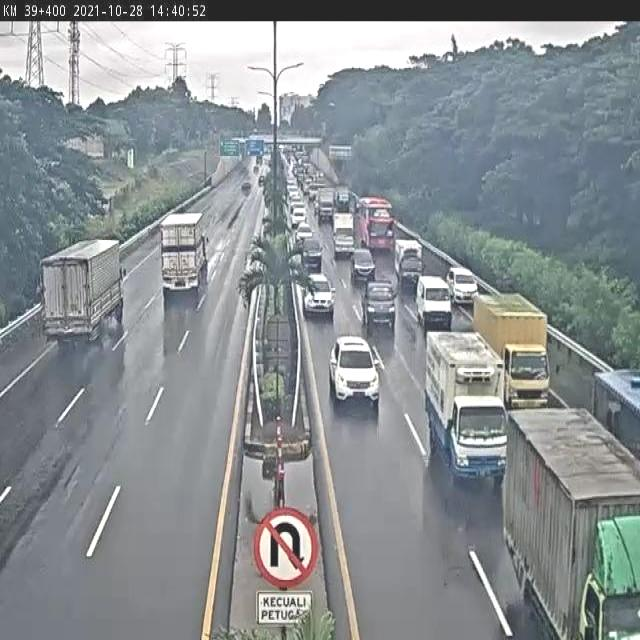Car: (328, 338, 382, 418), (361, 273, 396, 332), (447, 258, 480, 309), (303, 274, 332, 318), (351, 246, 378, 287), (298, 237, 326, 272), (290, 208, 310, 233), (295, 221, 312, 247), (238, 176, 254, 199)
Truck: (503, 410, 639, 638), (25, 228, 138, 357), (423, 329, 507, 483), (474, 295, 550, 411), (593, 368, 640, 472), (159, 213, 208, 295), (355, 196, 394, 252), (394, 238, 422, 289), (332, 214, 356, 261), (316, 188, 336, 222)
Van: (411, 274, 451, 328)
